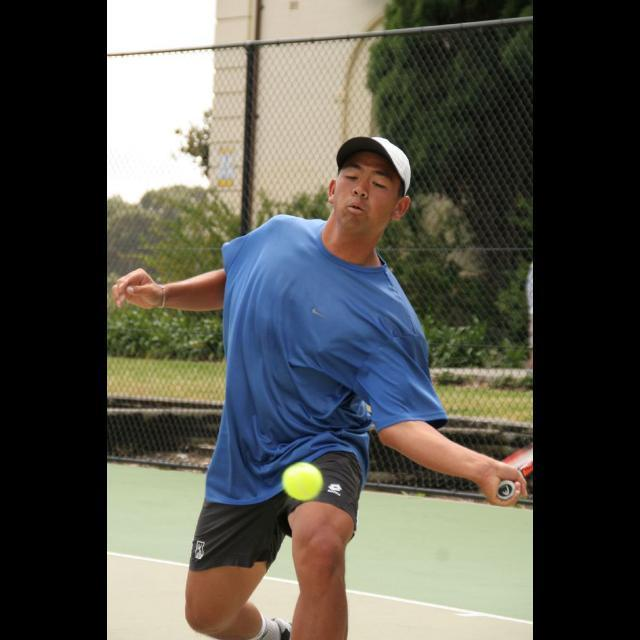tennis-ball: (281, 461, 322, 502)
